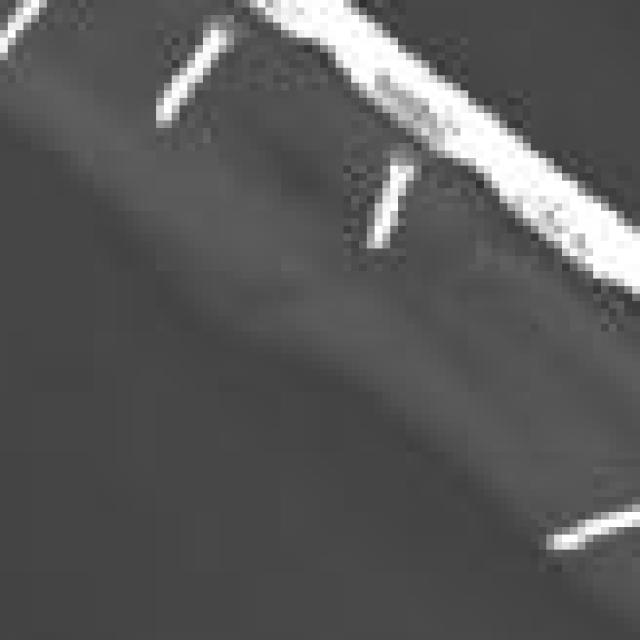fracture: (3, 4, 640, 640)
